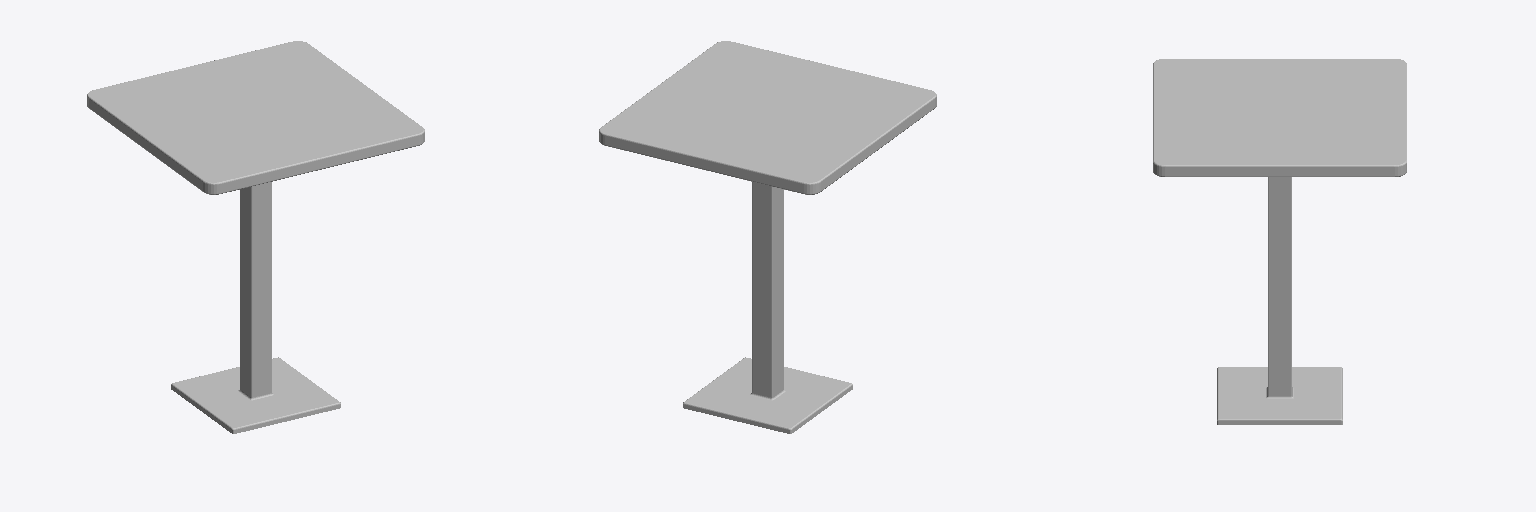
Rendered from coffee-table.obj.
The picture shows the model from 3 angles: view 1: azimuth 30°, elevation 25°; view 2: azimuth 150°, elevation 25°; view 3: azimuth 270°, elevation 25°; orthographic projection.
Visible parts, largest first — view 1: Coffee_Shop_Table; view 2: Coffee_Shop_Table; view 3: Coffee_Shop_Table.
Boxes of the visible parts, x1=… form: Coffee_Shop_Table: x1=87, y1=41, x2=424, y2=433; Coffee_Shop_Table: x1=599, y1=41, x2=936, y2=433; Coffee_Shop_Table: x1=1153, y1=59, x2=1406, y2=424.
Bounding box in the file's own units: 0.6 × 0.75 × 0.6.